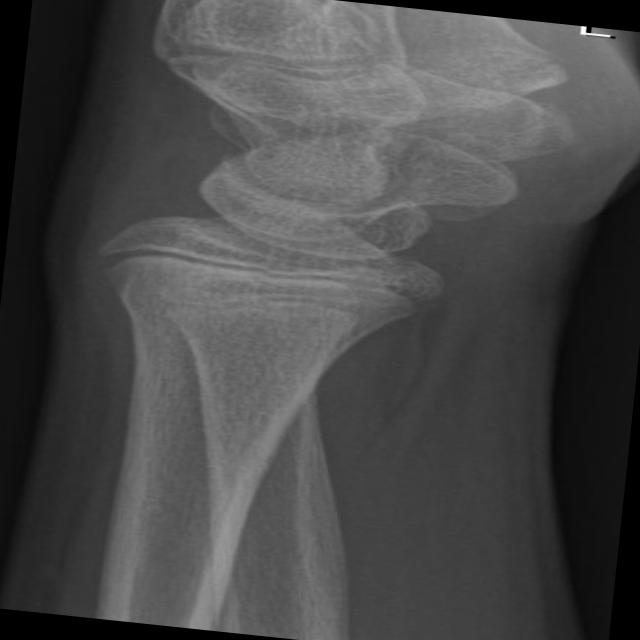fracture: (59, 218, 480, 328)
